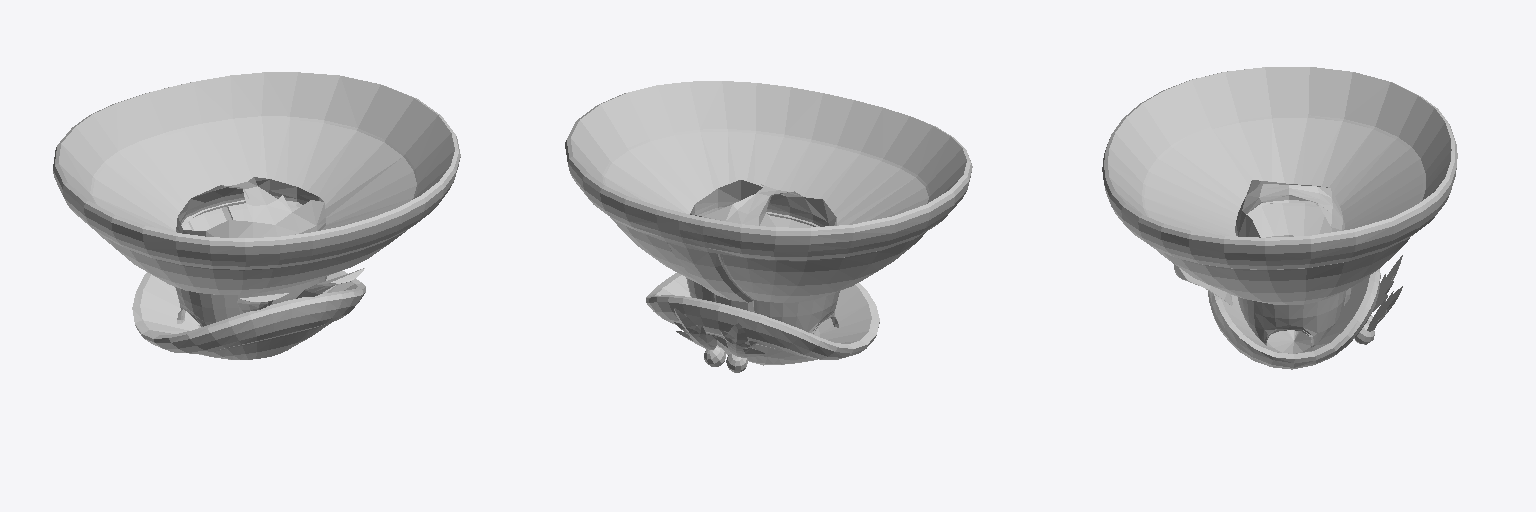
Rendered from cuerpo.obj.
The picture shows the model from 3 angles: view 1: azimuth 30°, elevation 25°; view 2: azimuth 150°, elevation 25°; view 3: azimuth 270°, elevation 25°; orthographic projection.
Parts seen in each view (by area): view 1: Body_jinsters_padoru.006; view 2: Body_jinsters_padoru.006; view 3: Body_jinsters_padoru.006.
Boxes of the visible parts, box(x1,y1,x2,y2) form: Body_jinsters_padoru.006: box(53, 72, 460, 359); Body_jinsters_padoru.006: box(565, 81, 972, 372); Body_jinsters_padoru.006: box(1102, 67, 1457, 369).
Bounding box in the file's own units: 0.3823 × 0.2154 × 0.3271.